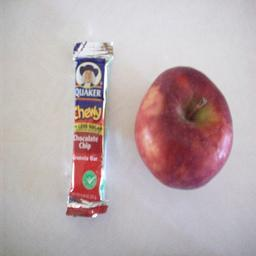apple: (133, 66, 234, 191)
